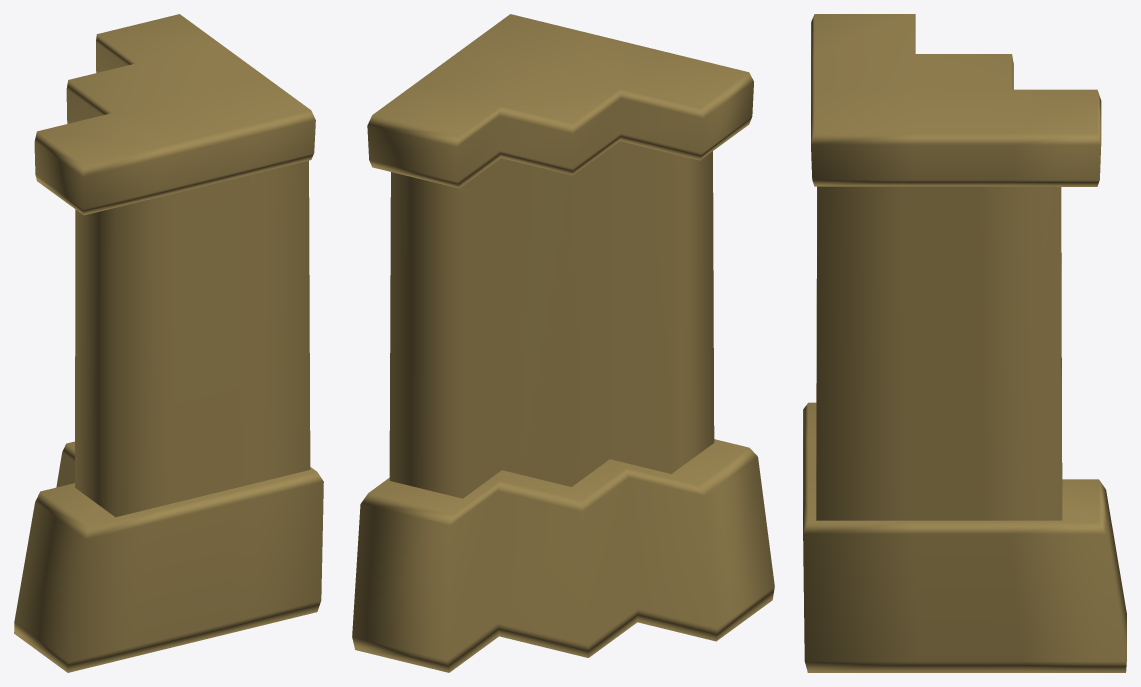
The model's file is Pillar_03_Half_Cut_Lod0.fbx.
3 views of the same model, side by side, from view 1: azimuth 30°, elevation 25°; view 2: azimuth 150°, elevation 25°; view 3: azimuth 270°, elevation 25° (orthographic). The views are drawn at different scales.
Parts seen in each view (by area): view 1: Pillar_03_Half_Cut_Lod0; view 2: Pillar_03_Half_Cut_Lod0; view 3: Pillar_03_Half_Cut_Lod0.
Part boxes in pixels (x1,y1,x2,y2): Pillar_03_Half_Cut_Lod0: (14,14,323,672); Pillar_03_Half_Cut_Lod0: (352,14,774,672); Pillar_03_Half_Cut_Lod0: (803,14,1126,672).
Bounding box in the file's own units: 84.87 × 159 × 86.98.
